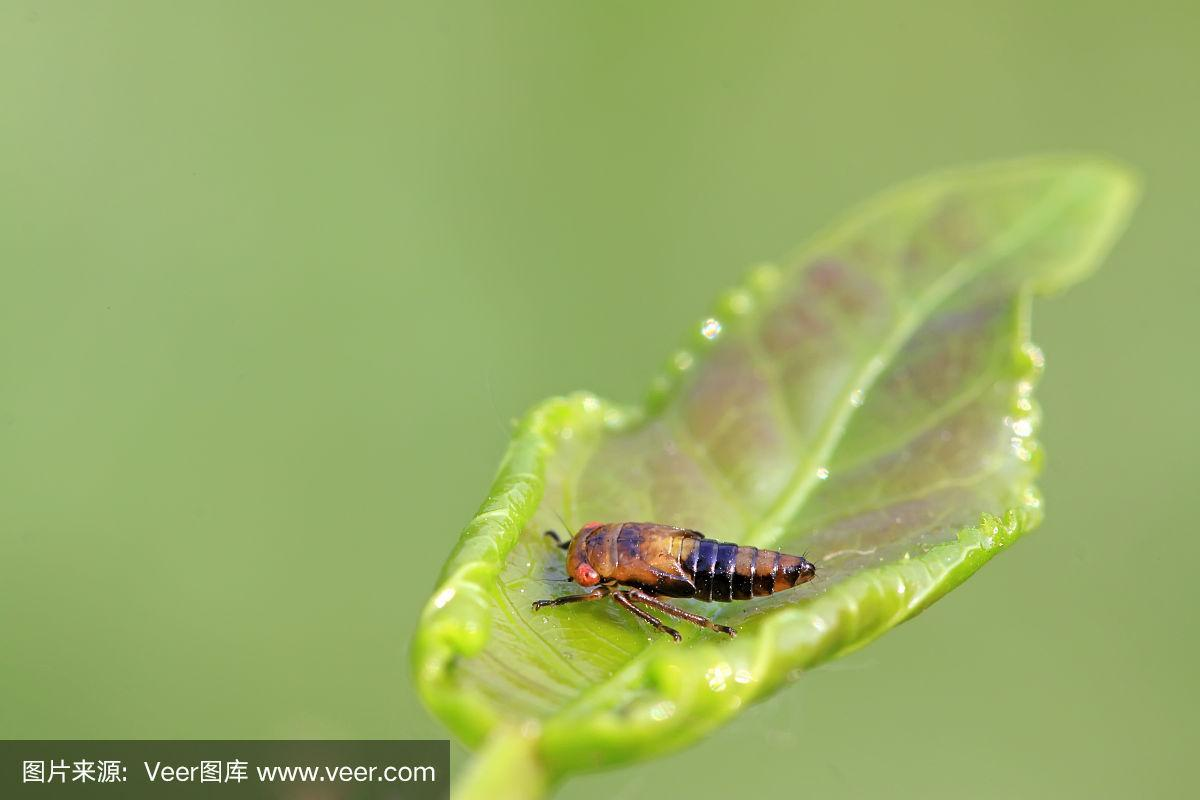Cicadellidae: (533, 520, 815, 635)
